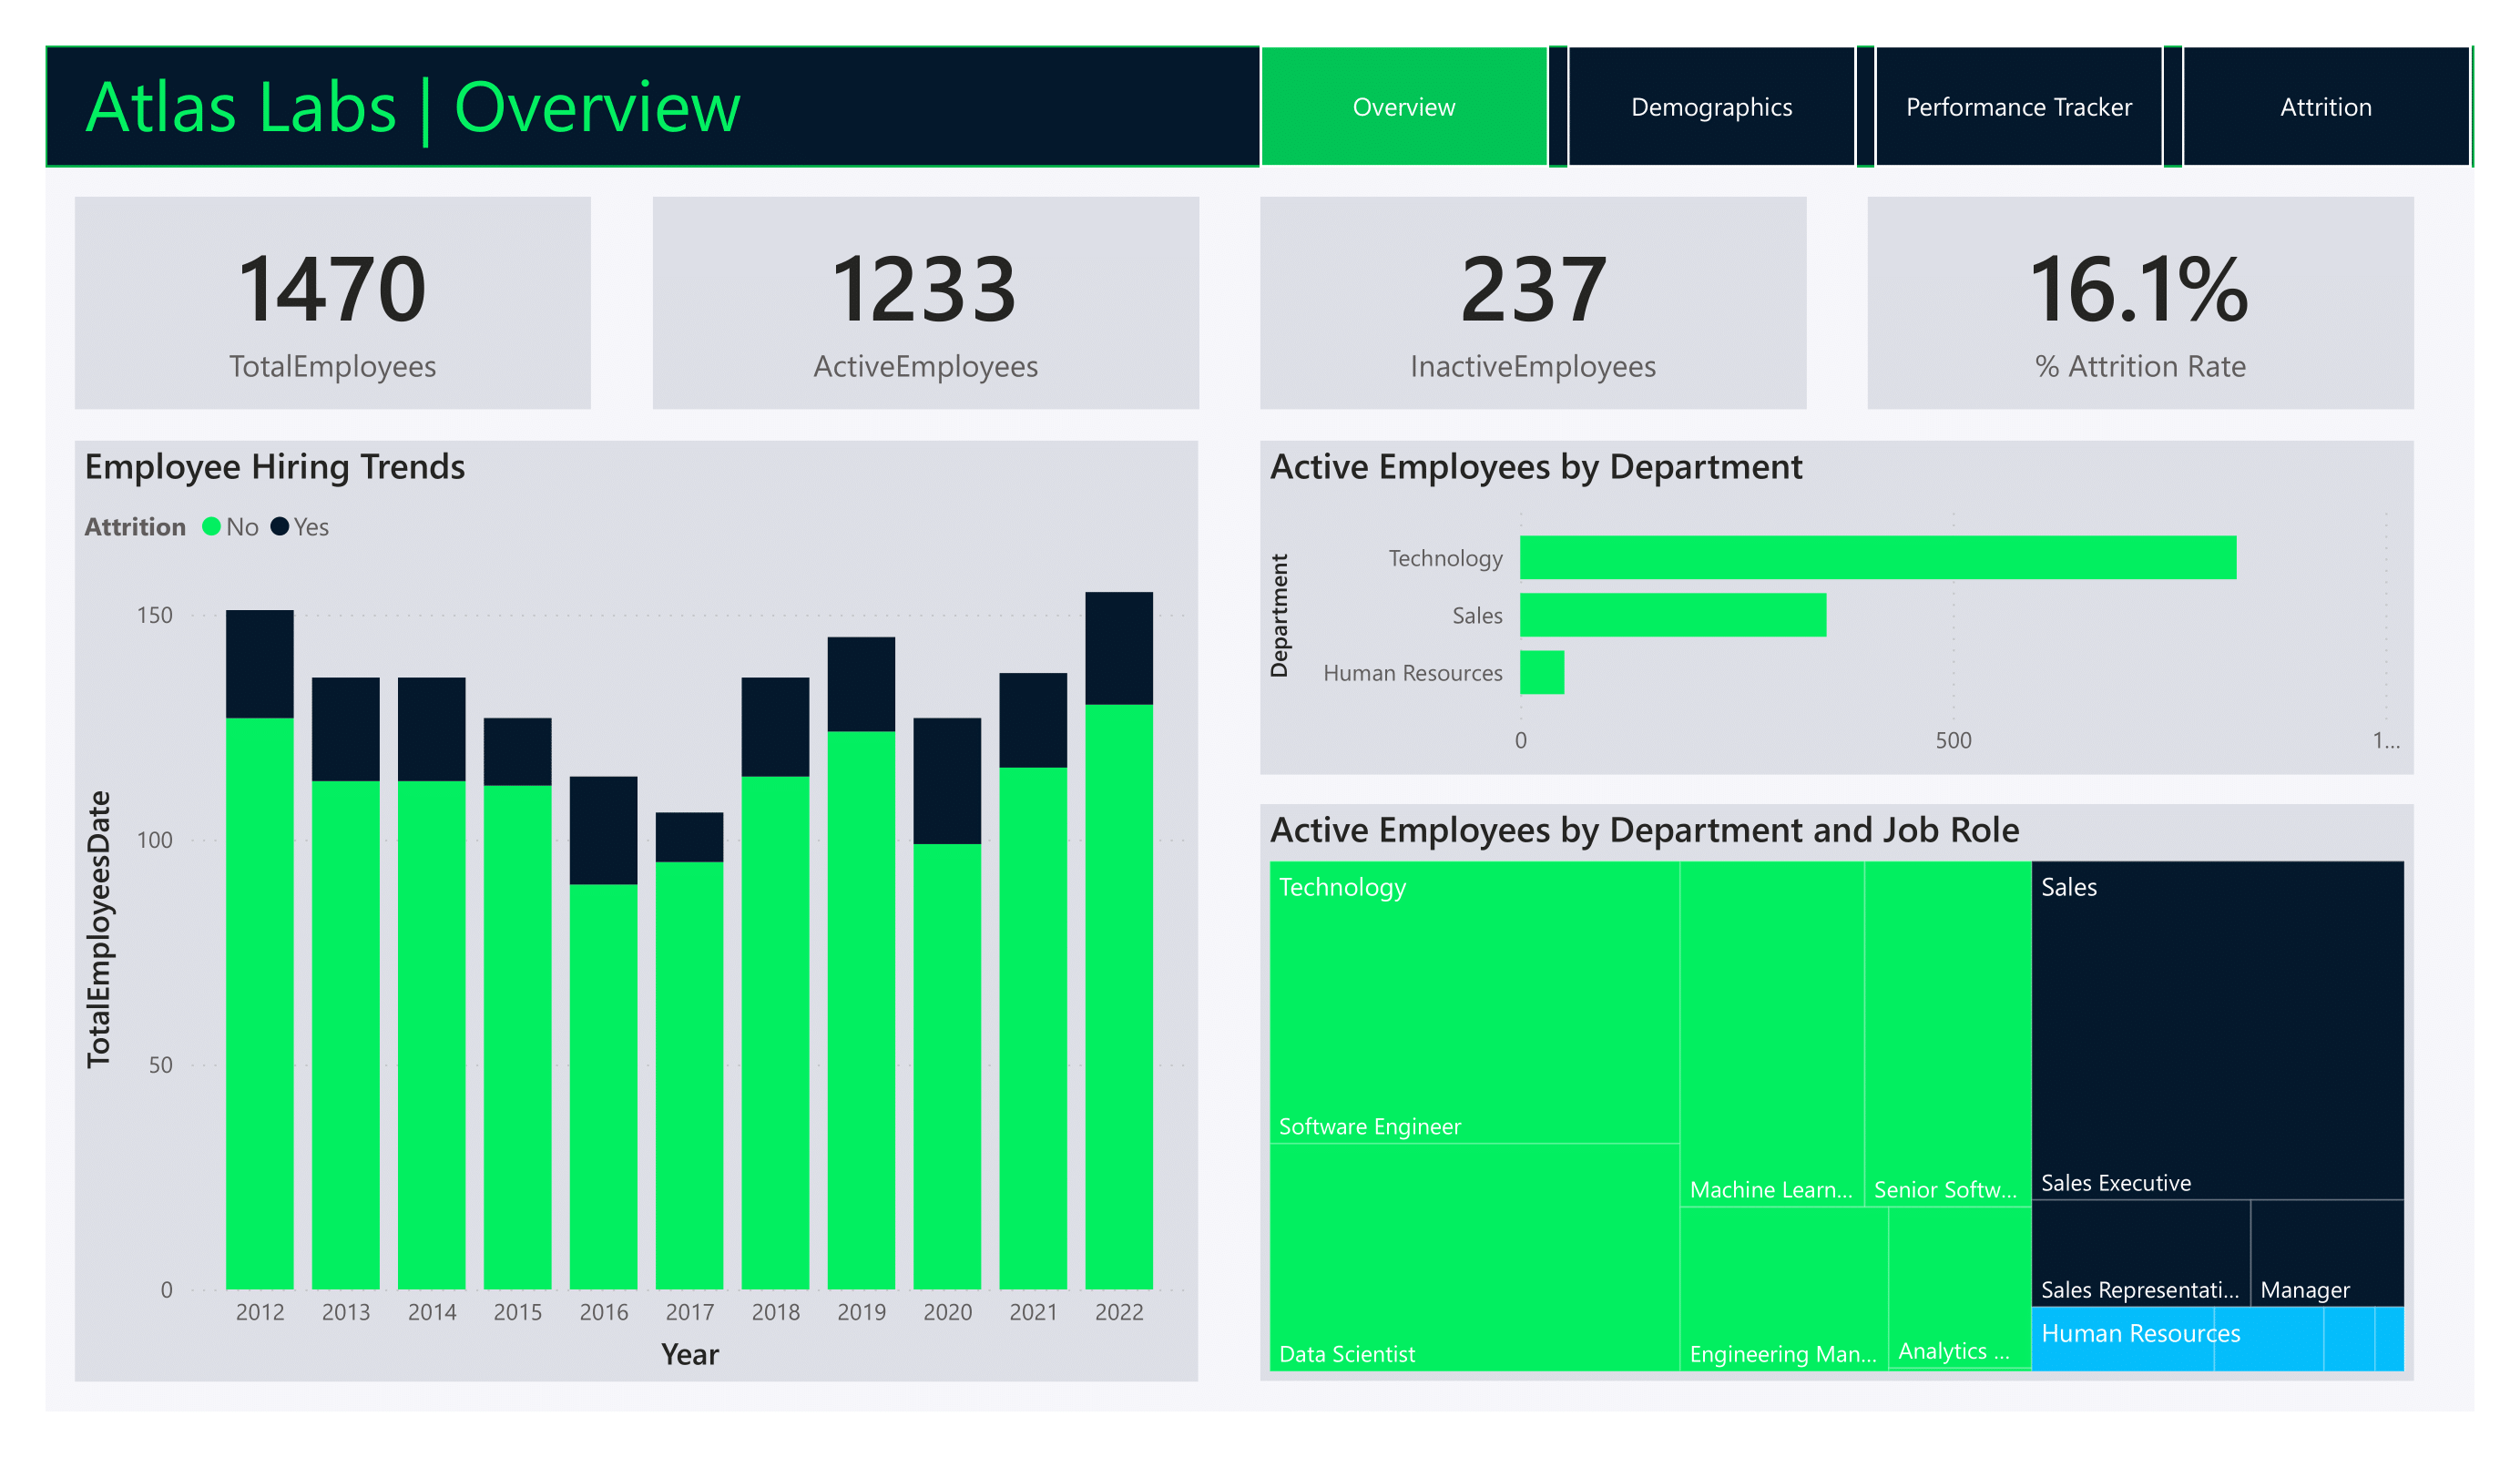

The page's visual inventory and layout, read from the dashboard file:
{"tool":"powerbi","page":{"name":"Overview","canvas":[1280,720],"ordinal":0},"visuals":[{"type":"card","fields":{"Values":["_Measures.TotalEmployees"]},"box":[16,80,272,112],"z":0},{"type":"card","fields":{"Values":["_Measures.ActiveEmployees"]},"box":[320,80,288,112],"z":1000},{"type":"card","fields":{"Values":["_Measures.InactiveEmployees"]},"box":[640,80,288,112],"z":2000},{"type":"card","fields":{"Values":["_Measures.% Attrition Rate"]},"box":[960,80,288,112],"z":3000},{"type":"columnChart","title":"Employee Hiring Trends","fields":{"Category":["DimDate.Date.Variation.Date Hierarchy.Year","DimDate.Date.Variation.Date Hierarchy.Quarter","DimDate.Date.Variation.Date Hierarchy.Month","DimDate.Date.Variation.Date Hierarchy.Day"],"Y":["_Measures.TotalEmployeesDate"],"Series":["DimEmployee.Attrition"]},"box":[16,208,592,496],"z":4000},{"type":"clusteredBarChart","title":"Active Employees by Department","fields":{"Category":["DimEmployee.Department"],"Y":["_Measures.ActiveEmployees"]},"box":[640,208,608,176],"z":5000},{"type":"treemap","title":"Active Employees by Department and Job Role","fields":{"Values":["_Measures.ActiveEmployees"],"Group":["DimEmployee.Department"],"Details":["DimEmployee.JobRole"]},"box":[640,400,608,304],"z":6000},{"type":"shape","box":[0,0,1280,64],"z":7000},{"type":"textbox","box":[16,0,448,64],"z":8000},{"type":"pageNavigator","box":[640,0,640,64],"z":9000}]}

Visuals, with their boxes on the page's 1280x720 design canvas (x1, y1, x2, y2). These are canvas units, not pixel positions in the 2520x1457 screenshot, which may show the page scaled, cropped or inside an application window:
card - _Measures.TotalEmployees: 16, 80, 288, 192
card - _Measures.ActiveEmployees: 320, 80, 608, 192
card - _Measures.InactiveEmployees: 640, 80, 928, 192
card - _Measures.% Attrition Rate: 960, 80, 1248, 192
"Employee Hiring Trends" columnChart: 16, 208, 608, 704
"Active Employees by Department" clusteredBarChart: 640, 208, 1248, 384
"Active Employees by Department and Job Role" treemap: 640, 400, 1248, 704
shape: 0, 0, 1280, 64
textbox: 16, 0, 464, 64
pageNavigator: 640, 0, 1280, 64
